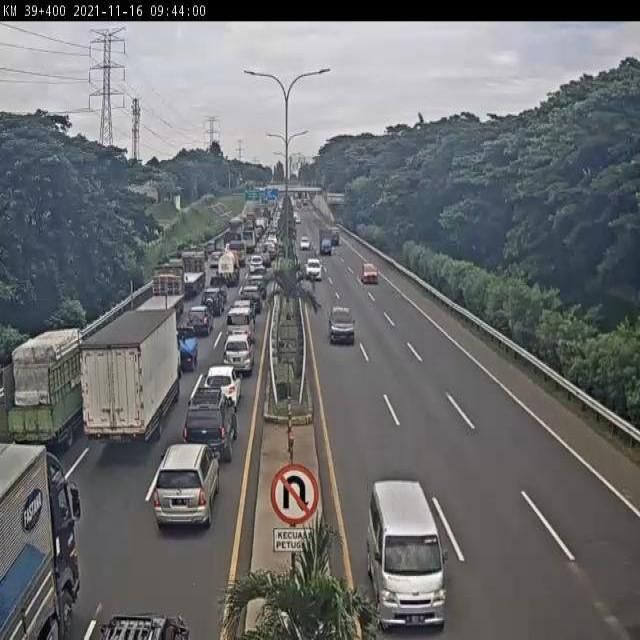car: (366, 476, 446, 629), (155, 443, 221, 528), (185, 386, 237, 458), (327, 303, 357, 347), (206, 364, 241, 401), (171, 324, 200, 368), (226, 335, 252, 373), (226, 307, 255, 341), (358, 257, 381, 287), (189, 306, 213, 334), (202, 286, 225, 314), (305, 257, 322, 279)
truck-m-: (79, 307, 183, 448), (0, 324, 107, 453)
